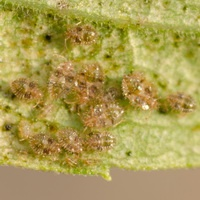insect: (122, 73, 195, 113), (11, 78, 42, 98)
